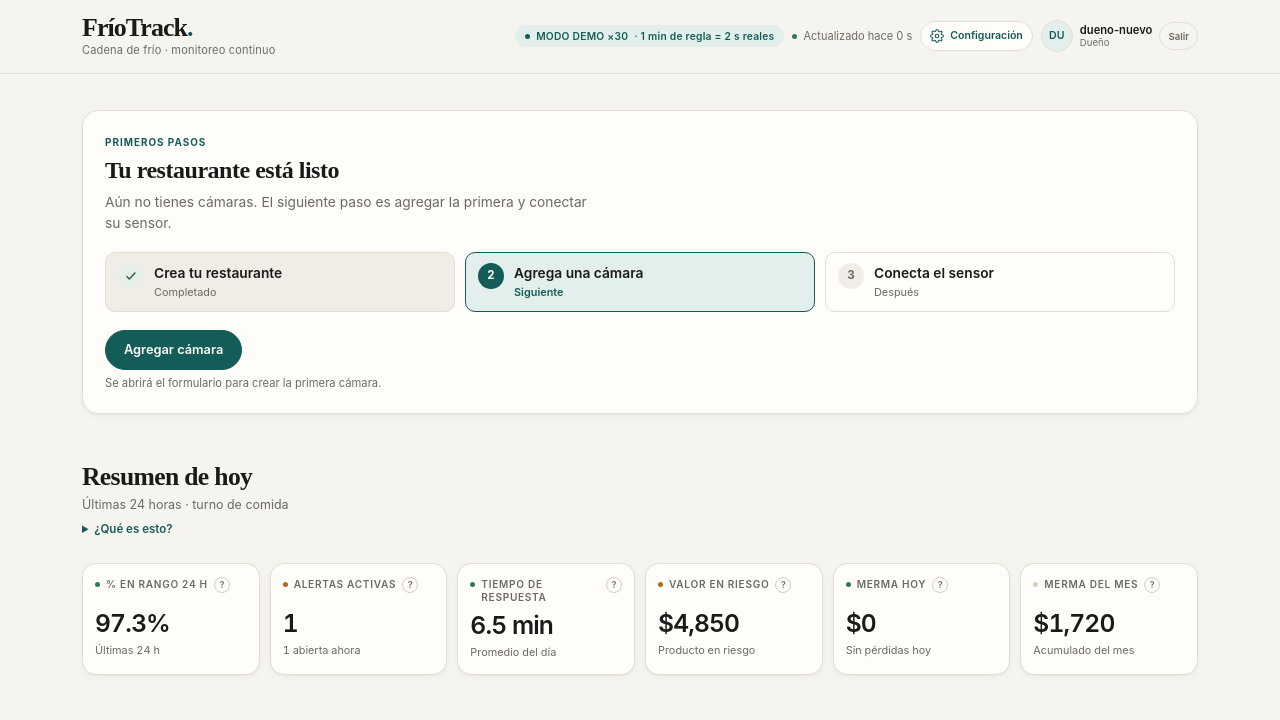
Test: vista general › muestra la bienvenida y el botón abre el formulario de cámara para el dueño
Expected: the heading "Tu restaurante está listo" is shown, [105,157,339,183]
Expected: the text "Aún no tienes cámaras. El siguiente paso es agregar la primera y conectar su sensor." is shown, [105,194,587,231]
Click the button "Agregar cámara": point(174, 350) [105,330,242,370]
(page scrolled)
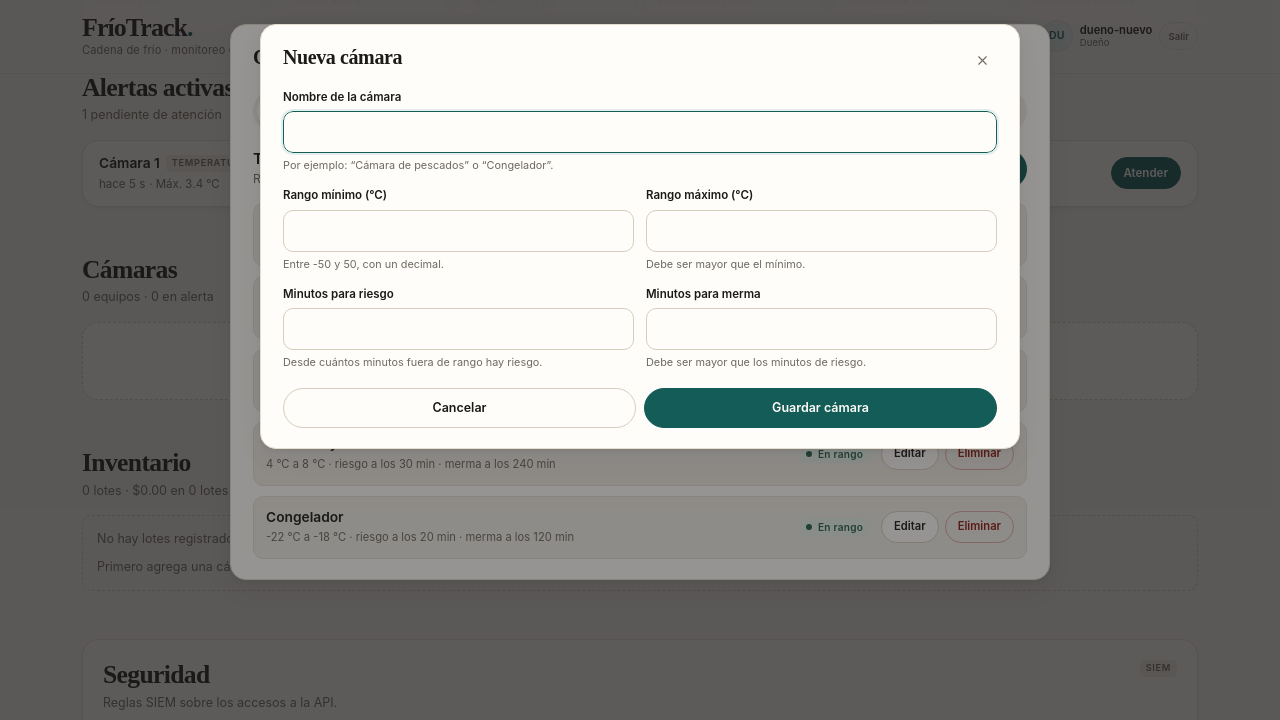
Expected: the text "Aquí aparecerán tus cámaras." is shown, [82,322,1198,400]
Now the dialog "Nueva cámara" is shown, box [260,24,1020,450]
